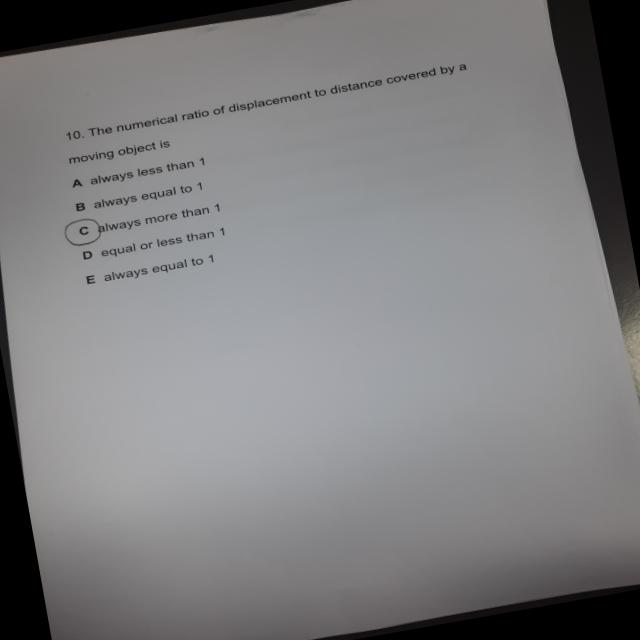C: (62, 215, 108, 250)
